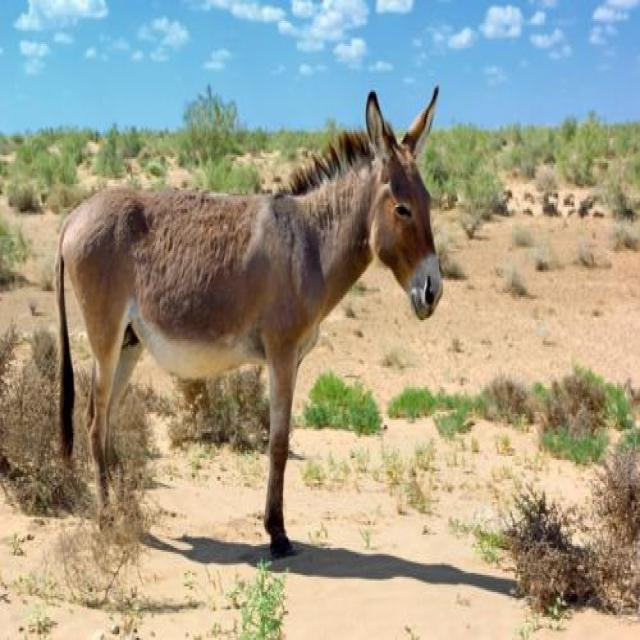Donkey: (55, 81, 446, 558)
